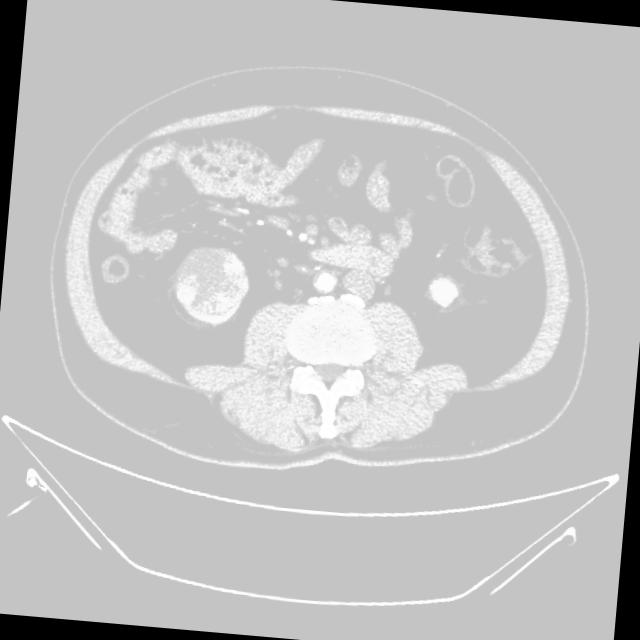TUMOR: (108, 147, 512, 362)
